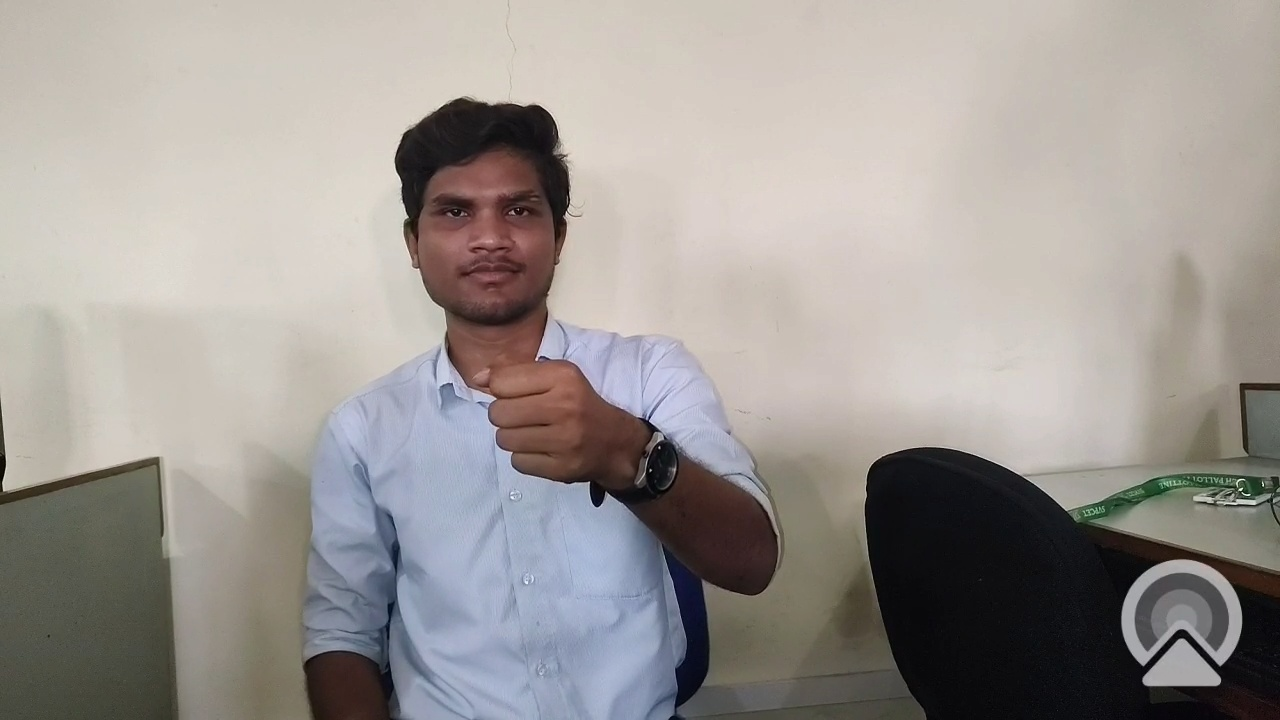Yes: (461, 336, 646, 529)
